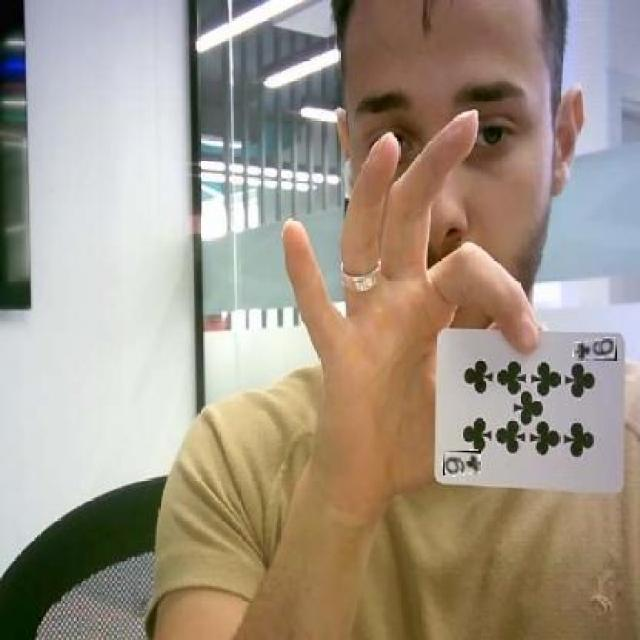9C: (574, 338, 617, 360), (442, 452, 481, 476)
